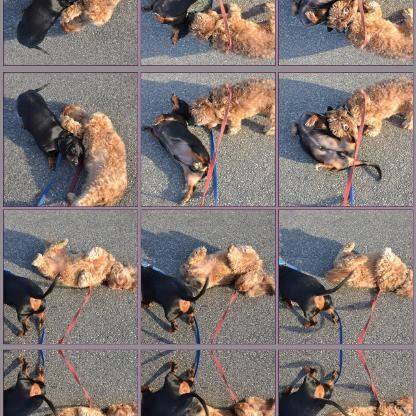Dog: (140, 92, 210, 202), (57, 102, 127, 206), (293, 104, 383, 182), (14, 78, 84, 173), (30, 235, 138, 293), (324, 76, 414, 138), (324, 0, 415, 61), (178, 242, 276, 298), (322, 240, 414, 298), (190, 76, 276, 136), (190, 0, 276, 60), (140, 262, 210, 330), (279, 268, 357, 326), (14, 0, 84, 58), (279, 365, 358, 415), (2, 272, 62, 336), (140, 361, 211, 415), (2, 355, 63, 415), (140, 0, 211, 45), (293, 0, 384, 32), (57, 0, 128, 35), (178, 394, 277, 415), (322, 393, 415, 415), (30, 399, 139, 415)
